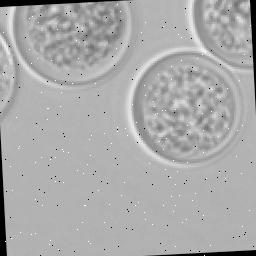picoshell: (128, 48, 242, 169), (7, 2, 128, 88), (187, 0, 251, 71), (0, 37, 14, 117)
